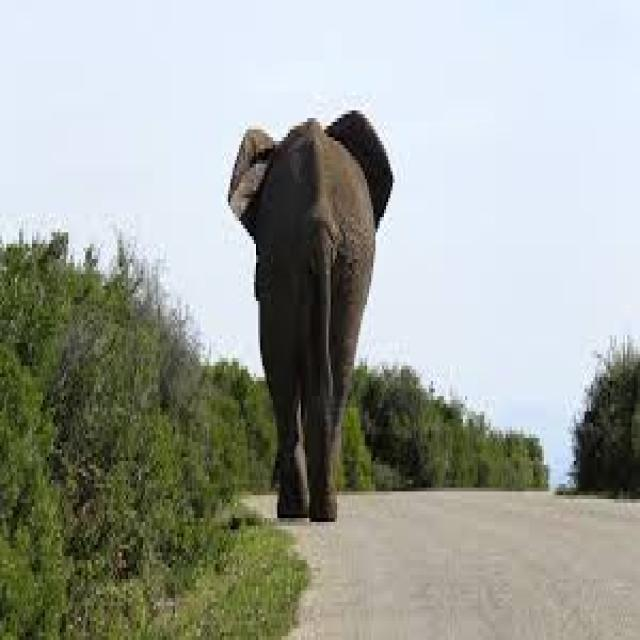Elephant: (226, 107, 393, 522)
